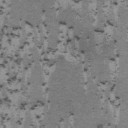oxide scale of temperature system: (0, 0, 88, 128), (98, 54, 120, 122), (94, 2, 119, 50), (56, 0, 82, 13), (89, 0, 98, 26), (96, 124, 104, 128), (68, 112, 74, 116), (59, 119, 64, 122)
